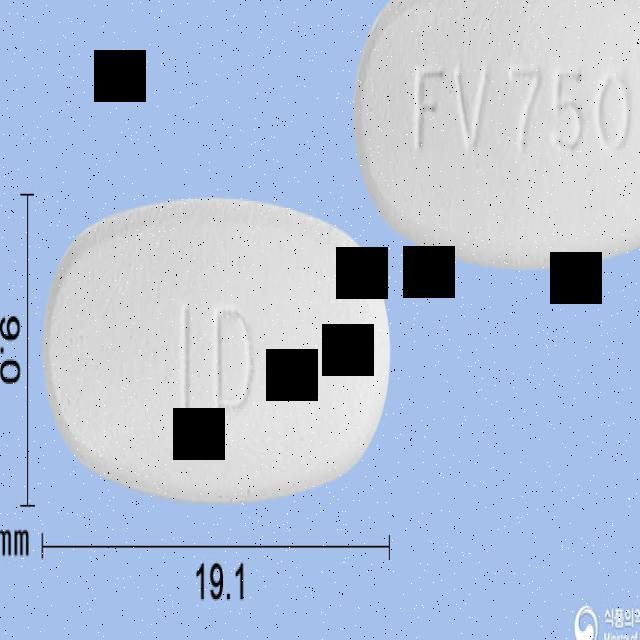Famvir -750mg: (45, 193, 393, 506), (353, 0, 640, 268)
